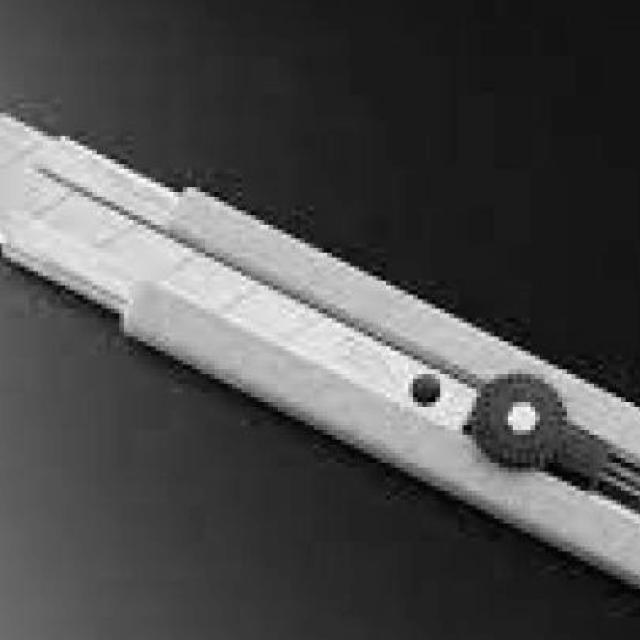estilete: (0, 114, 640, 590)
